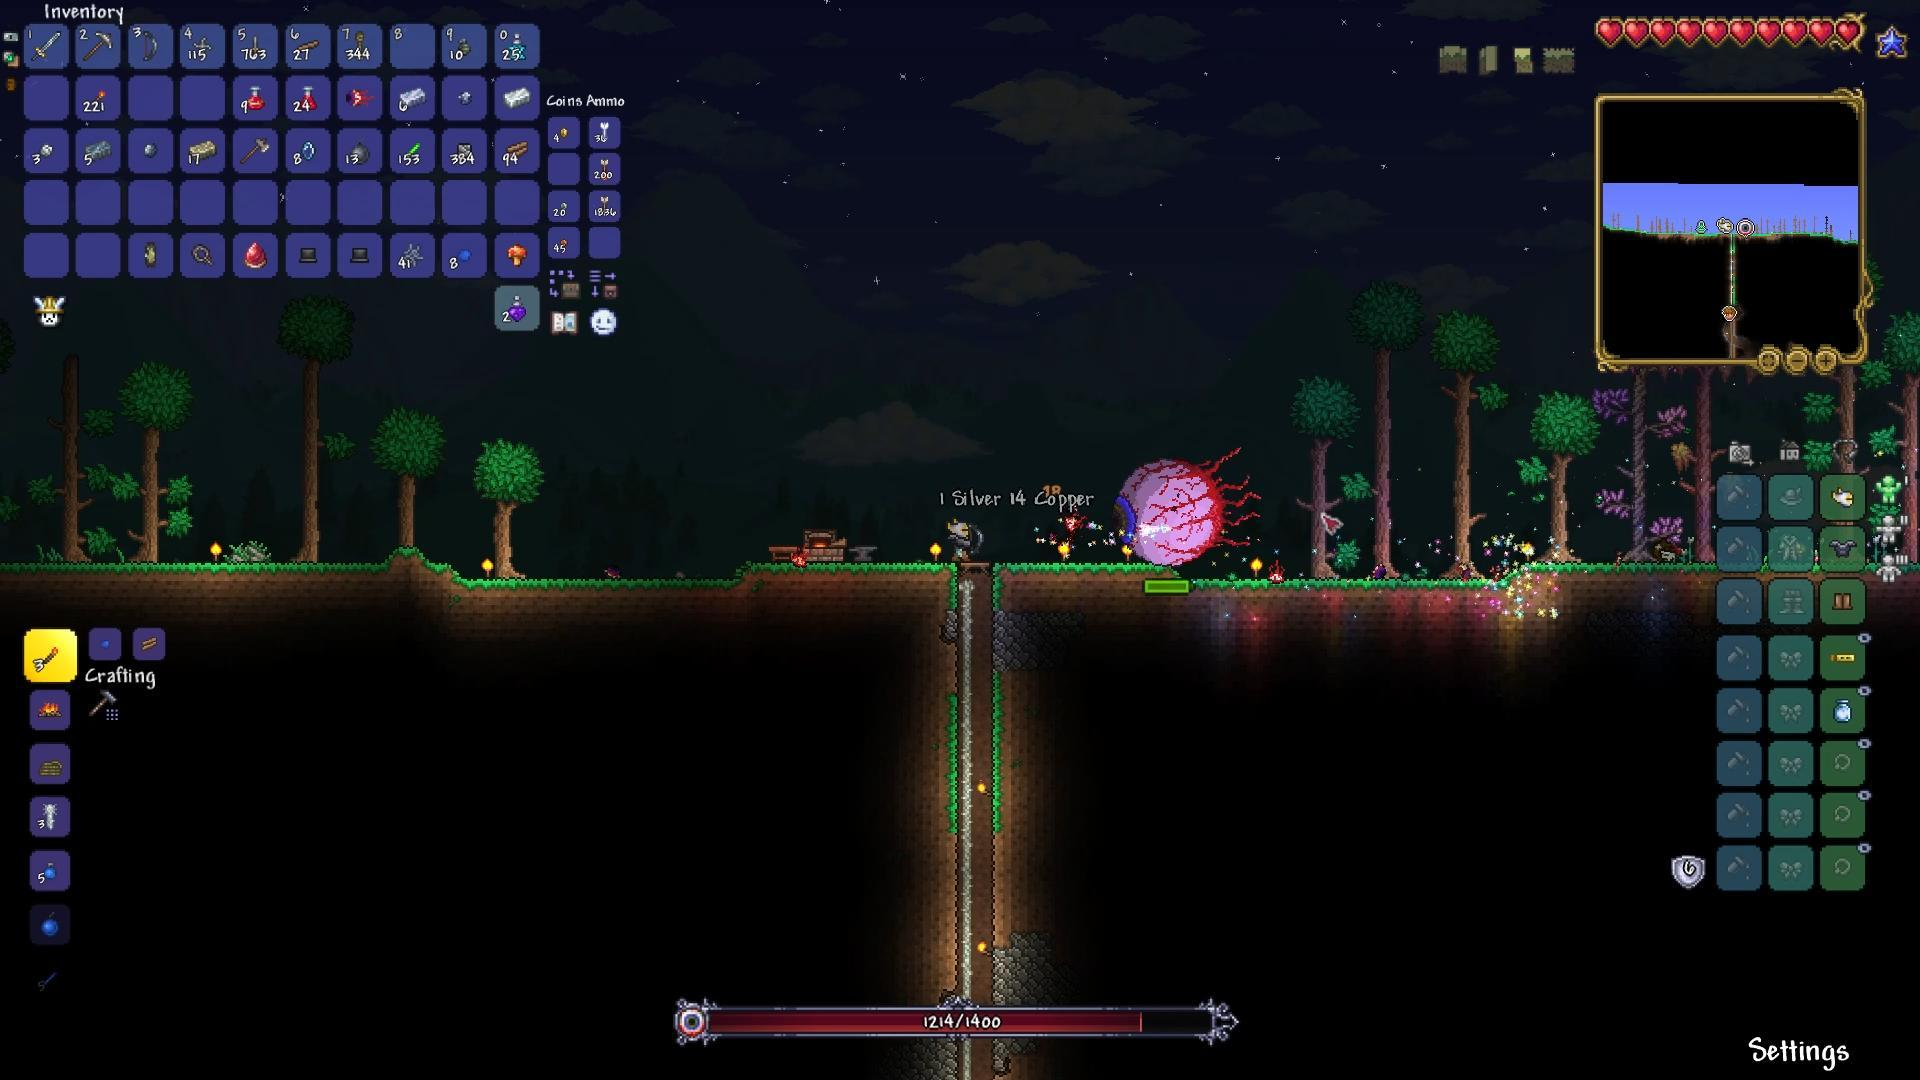eyeC: (1108, 446, 1258, 564)
